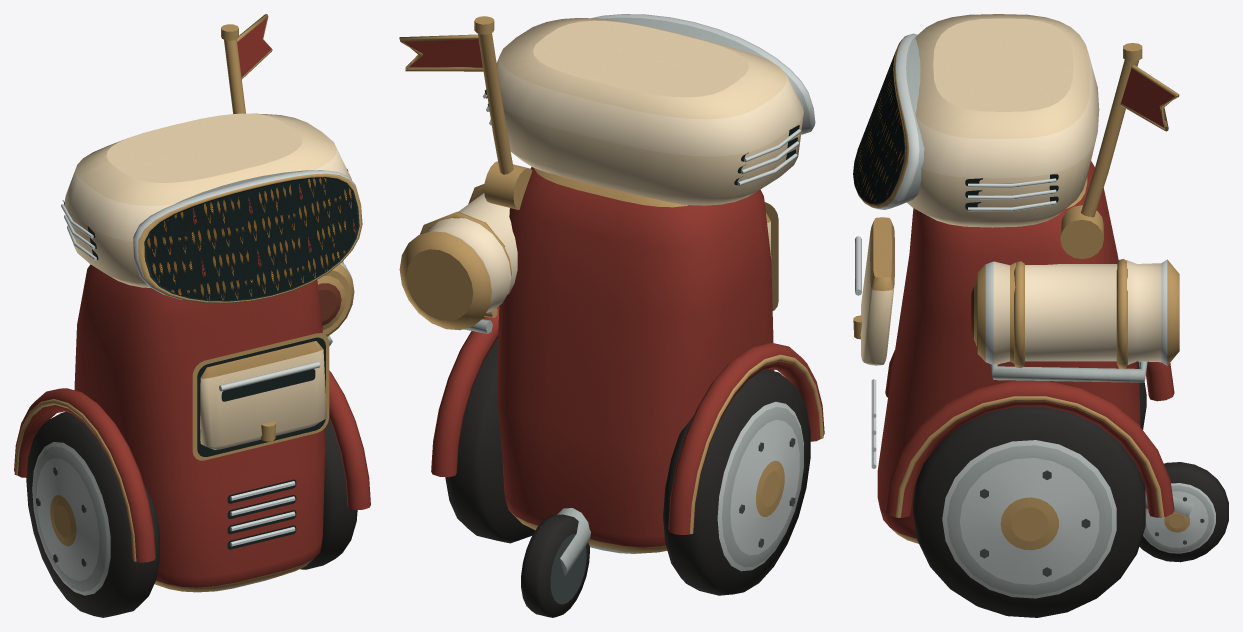
File: Runner-L0.fbx
3 views of the same model, side by side, from view 1: azimuth 30°, elevation 25°; view 2: azimuth 150°, elevation 25°; view 3: azimuth 270°, elevation 25° (orthographic). The views are drawn at different scales.
Parts seen in each view (by area): view 1: Runner_Body, Runner_Head, Runner_Head_Face, Runner_WheelL, Runner_Hatch, Runner_WheelR, Runner_Flag; view 2: Runner_Body, Runner_Head, Runner_WheelL, Runner_WheelR, Runner_Flag, Runner_Caster; view 3: Runner_Body, Runner_WheelR, Runner_Head, Runner_Flag, Runner_Caster, Runner_Hatch, Runner_Head_Face.
Part boxes in pixels (x1,y1,x2,y2): Runner_Body: (14, 261, 370, 592); Runner_Head: (61, 113, 362, 303); Runner_Head_Face: (146, 178, 357, 300); Runner_WheelL: (26, 412, 159, 617); Runner_Hatch: (200, 341, 326, 449); Runner_WheelR: (300, 418, 357, 569); Runner_Flag: (221, 14, 272, 113); Runner_Body: (399, 167, 824, 575); Runner_Head: (482, 14, 815, 205); Runner_WheelL: (663, 369, 810, 595); Runner_WheelR: (445, 338, 535, 543); Runner_Flag: (399, 16, 532, 209); Runner_Caster: (521, 514, 589, 617); Runner_Body: (871, 161, 1193, 543); Runner_WheelR: (913, 406, 1145, 617); Runner_Head: (853, 14, 1099, 227); Runner_Flag: (1060, 43, 1179, 259); Runner_Caster: (1139, 462, 1228, 562); Runner_Hatch: (853, 217, 894, 365); Runner_Head_Face: (853, 52, 904, 203).
Size of the model in its own units: 0.4646 by 0.7898 by 0.4823.
Materials: 2 (2 with a texture image).
